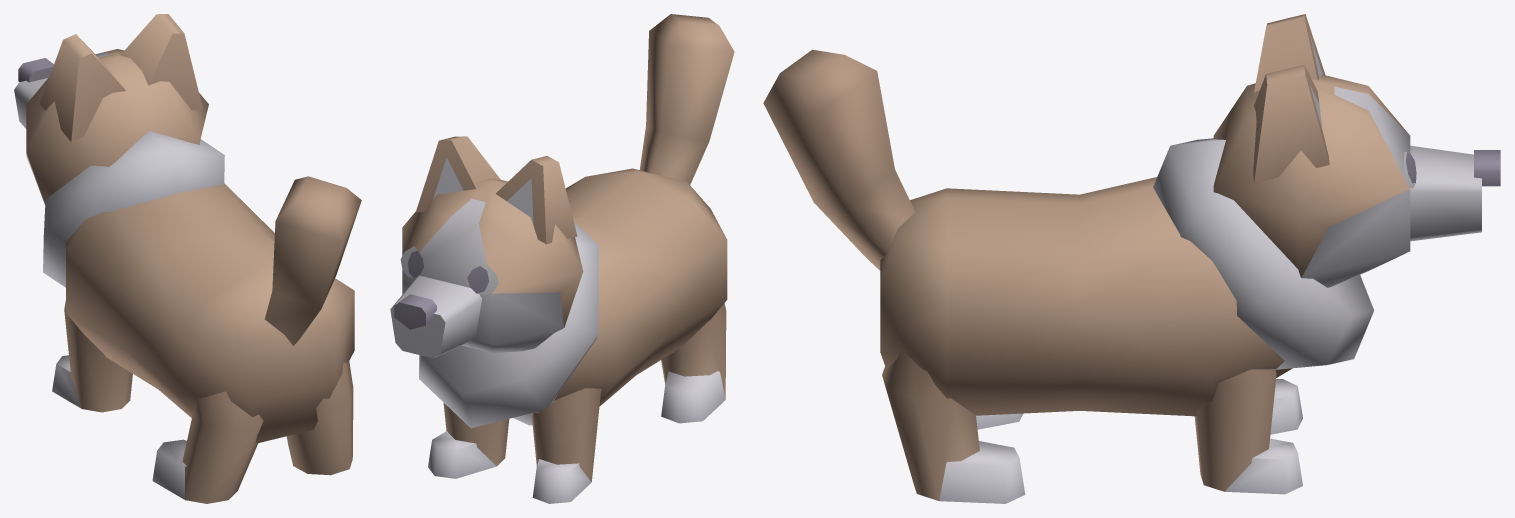
Rendered from dog-corgi-standing (%thumbnail).glb.
3 views of the same model, side by side, from view 1: azimuth 30°, elevation 25°; view 2: azimuth 150°, elevation 25°; view 3: azimuth 270°, elevation 25° (orthographic). The views are drawn at different scales.
Parts seen in each view (by area): view 1: dog-corgi-standing (%thumbnail); view 2: dog-corgi-standing (%thumbnail); view 3: dog-corgi-standing (%thumbnail).
Part boxes in pixels (box(x1,y1,x2,y2)): dog-corgi-standing (%thumbnail): box(14, 14, 361, 503); dog-corgi-standing (%thumbnail): box(390, 14, 734, 503); dog-corgi-standing (%thumbnail): box(763, 14, 1500, 503).
Bounding box in the file's own units: 0.1897 × 0.3413 × 0.5546.
